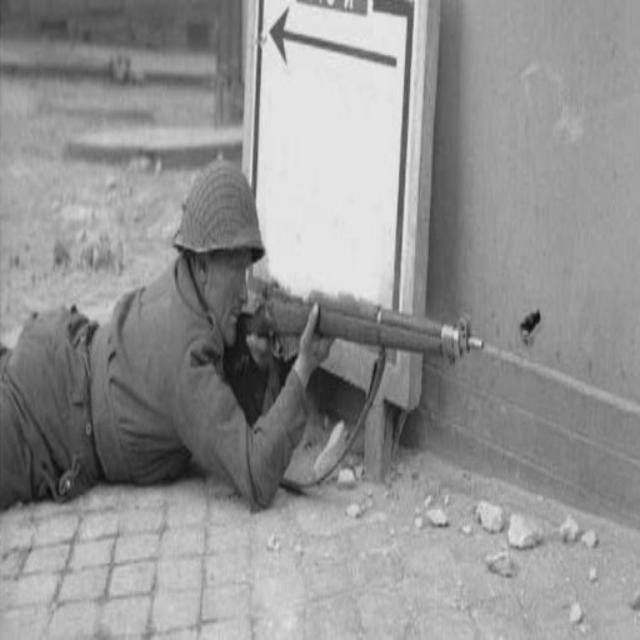other: (0, 163, 316, 494)
